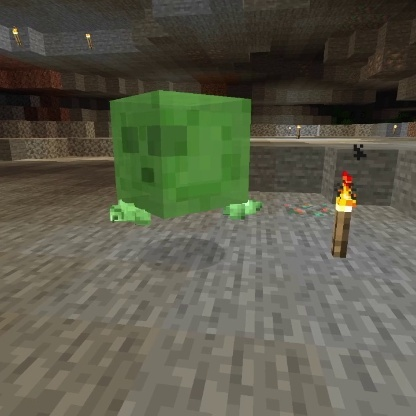slime: (106, 87, 255, 222)
